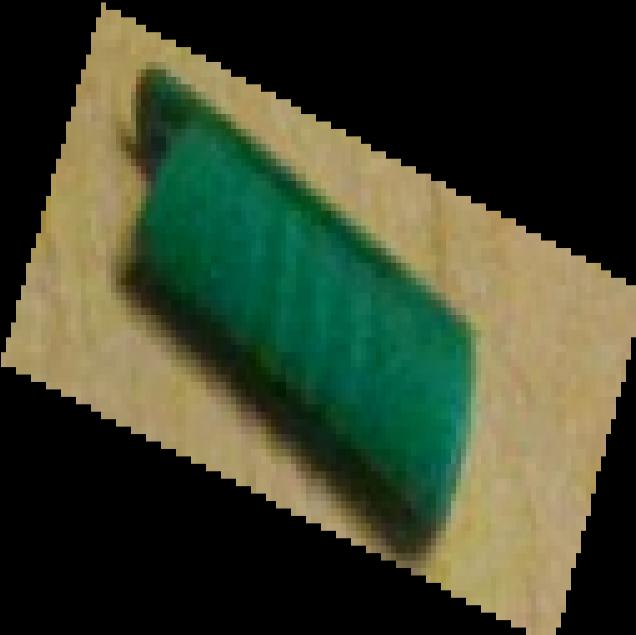green: (0, 1, 636, 635)
